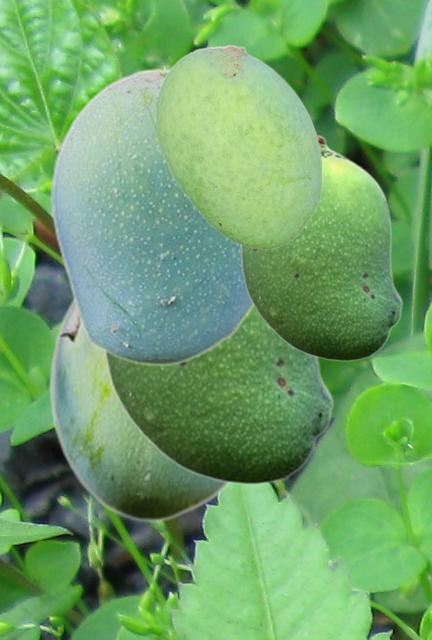green_mango: (49, 67, 253, 366), (48, 296, 232, 521), (102, 309, 333, 485), (240, 134, 402, 361), (155, 44, 321, 248)
